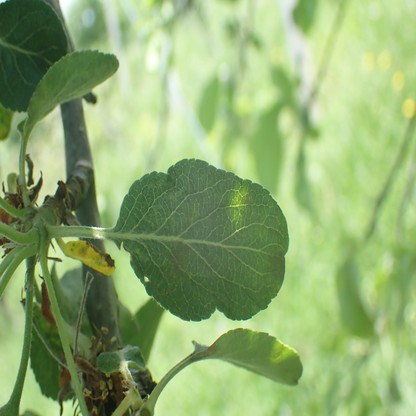scab: (164, 217, 202, 278), (270, 250, 286, 281), (191, 343, 218, 360), (240, 196, 251, 207), (165, 289, 170, 294)
